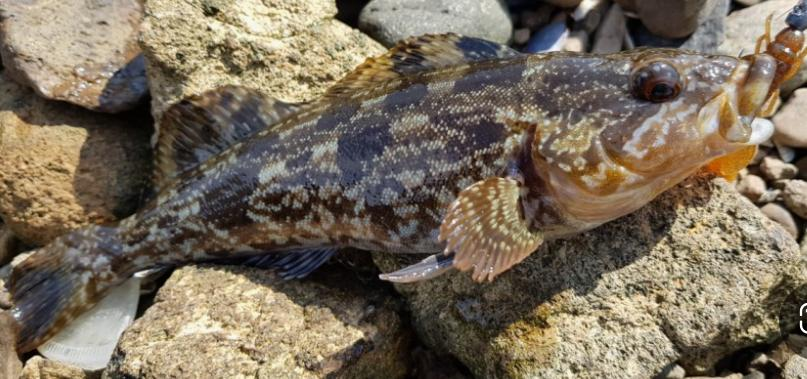fish: (6, 33, 775, 350)
